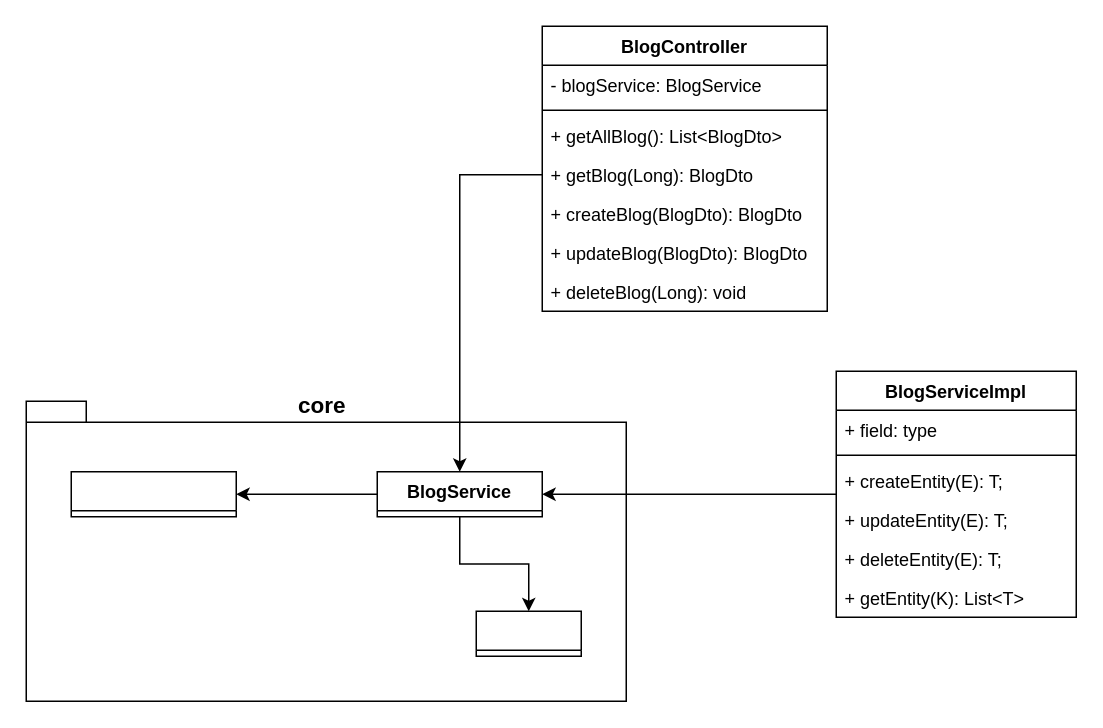
Image size: 1103x728. Some labels were removed from this diagram. The centre of each missing label's shape, as x and y in pixels:
"Blog" belongs at [528,633].
"CrudService<T,E,K>" belongs at [153,493].
